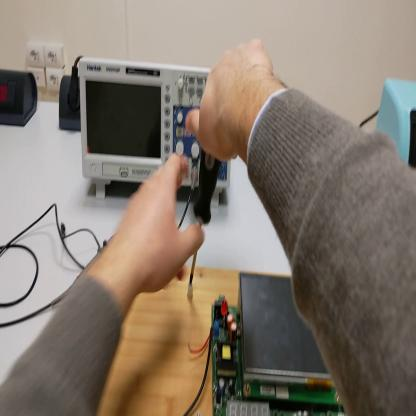hand: (186, 38, 279, 166), (122, 153, 203, 295)
low voltage board: (181, 268, 345, 413)
oscilloscope: (81, 55, 230, 211)
screwdriver-: (190, 153, 221, 289)
socket: (2, 70, 40, 128), (60, 79, 82, 131)
welder station: (378, 83, 414, 173)
working area: (97, 268, 344, 411)
